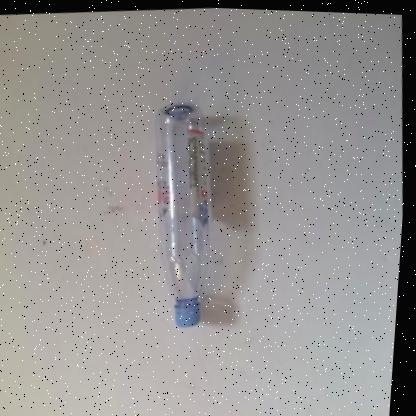Plastic: (156, 102, 212, 325)
